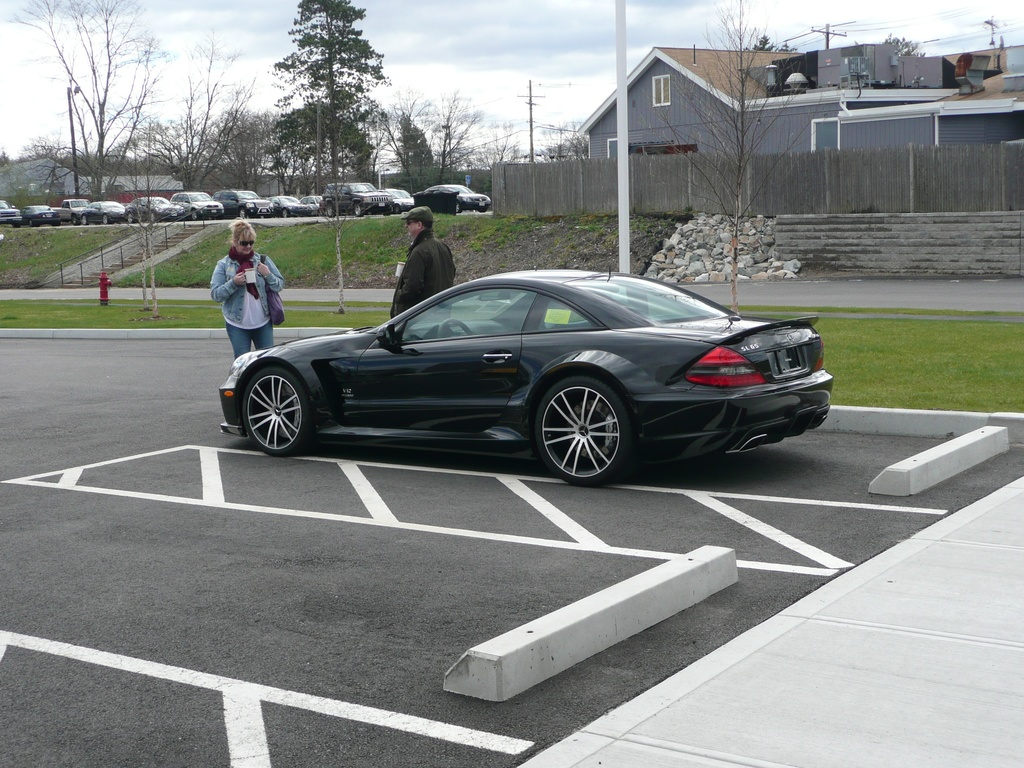Tree: (0, 0, 588, 205)
